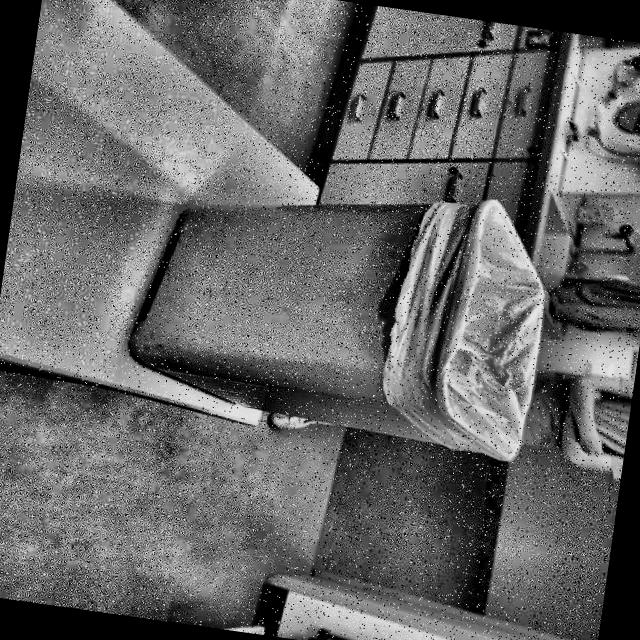Dustbin: (108, 141, 574, 482)
